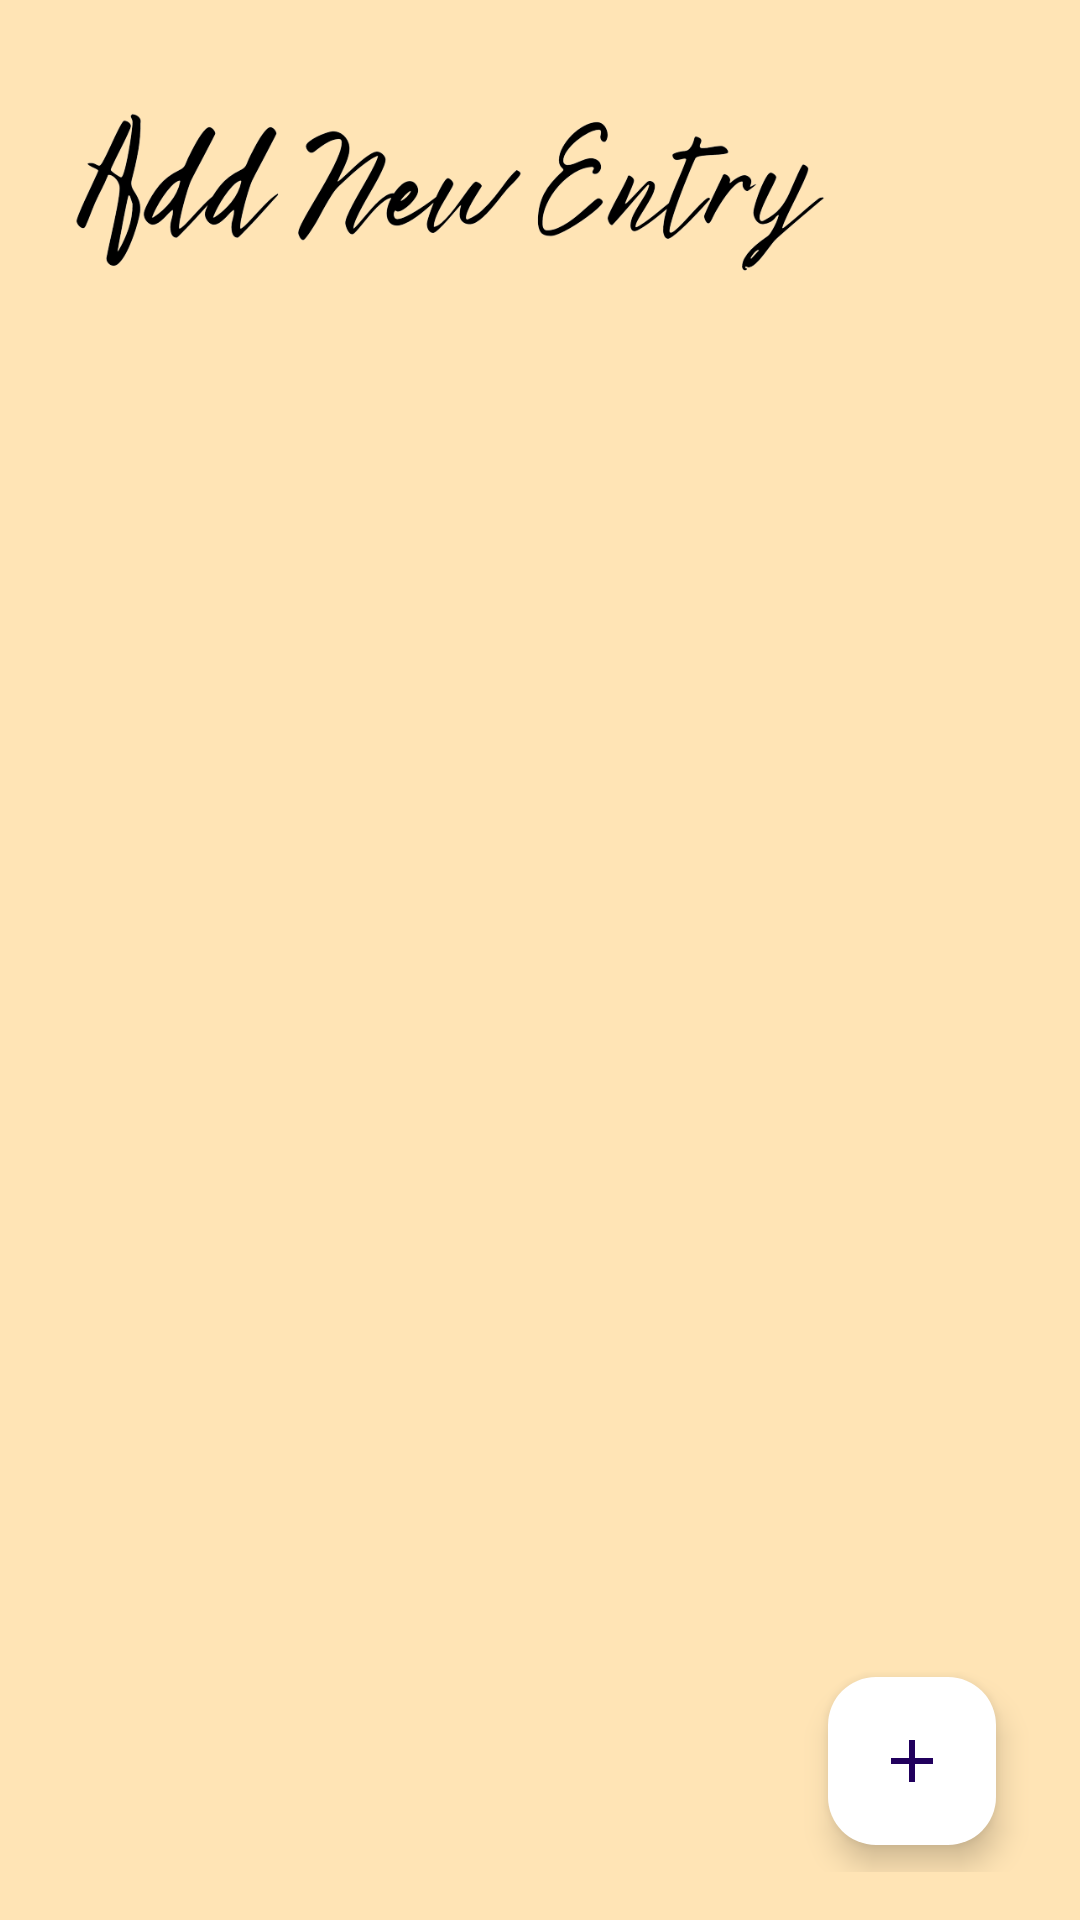

Icon click points for this 1080×1920 phone screenshot, format point (x, y):
add: point (912, 1761)
